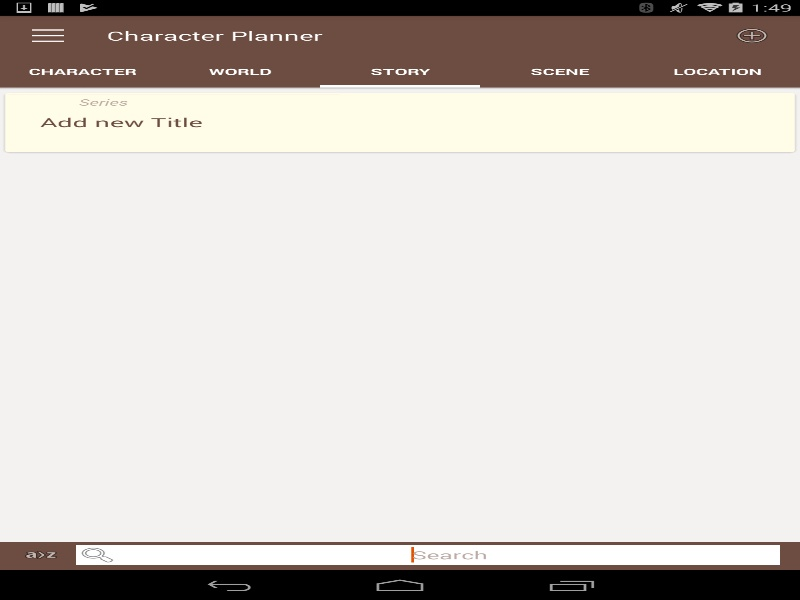Button: (10, 15, 85, 55), (20, 545, 62, 565)
Input: (76, 545, 780, 565)
